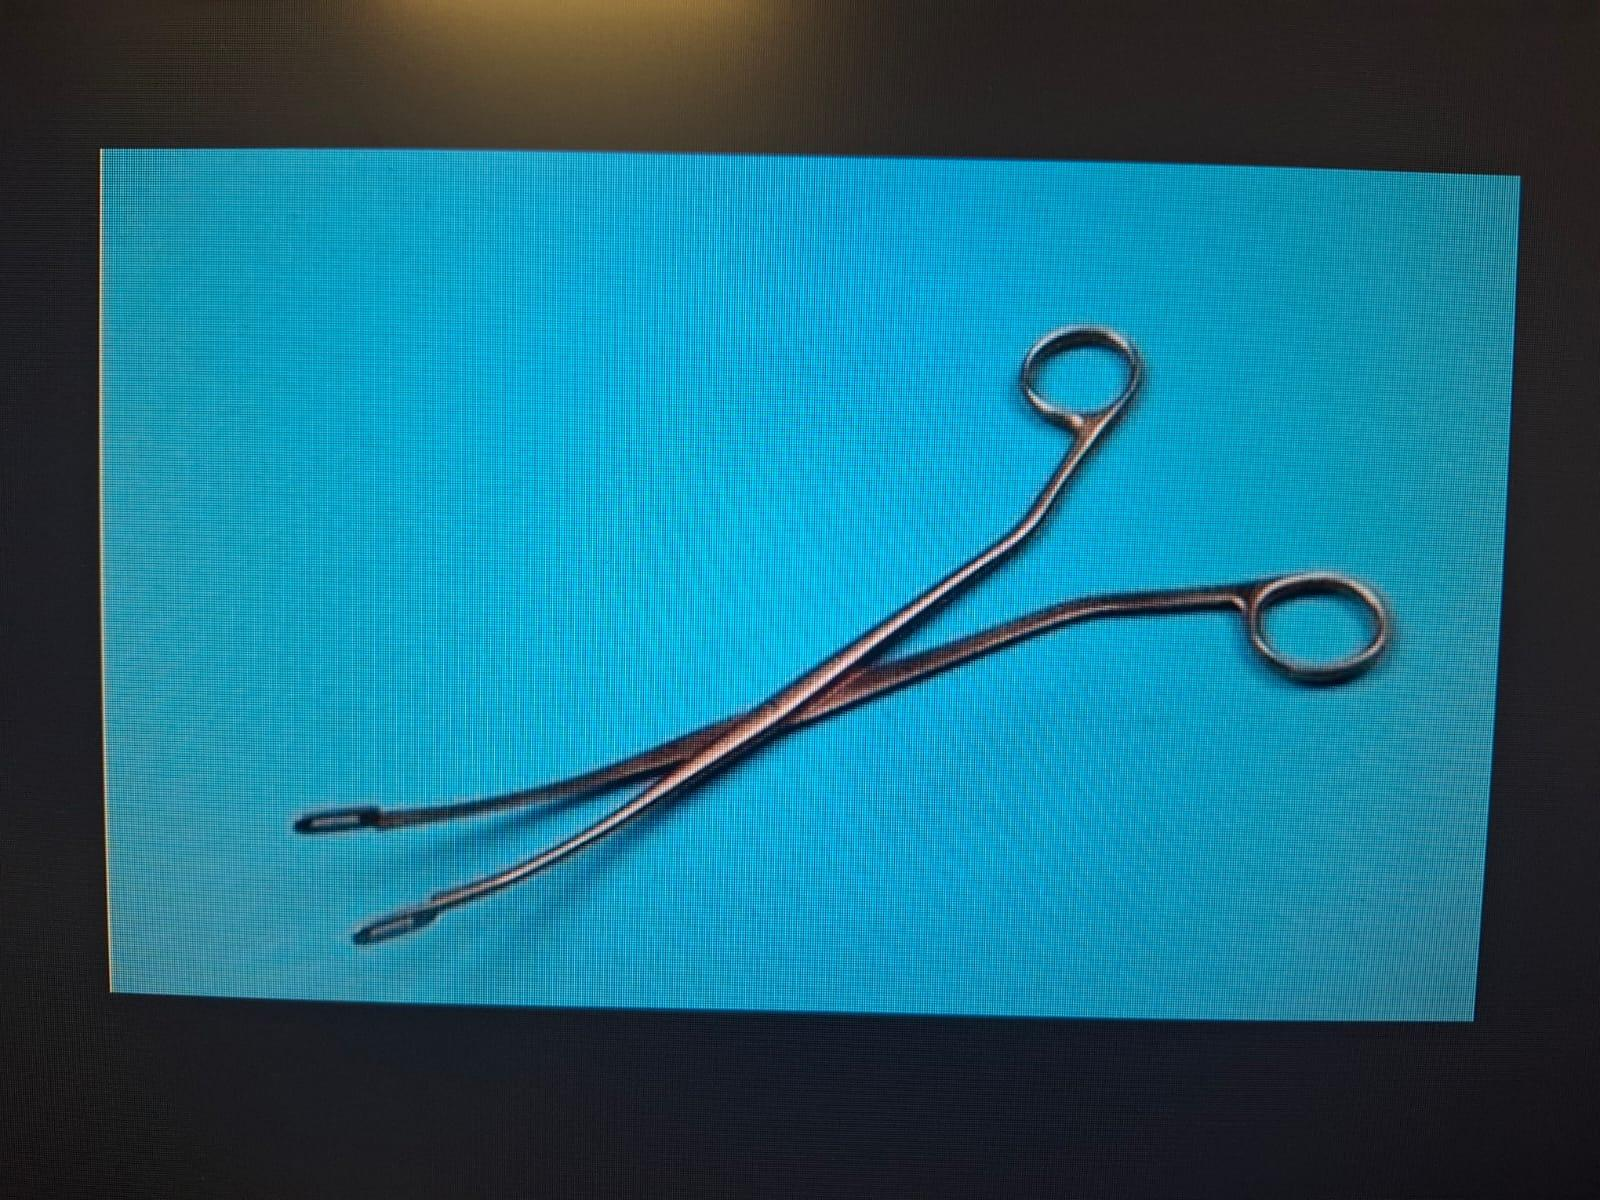Desjardin Forceps: (278, 310, 1406, 972)
